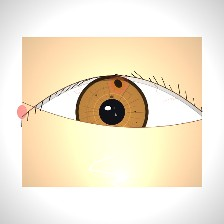foreign_body_visible: (95, 65, 141, 102)
